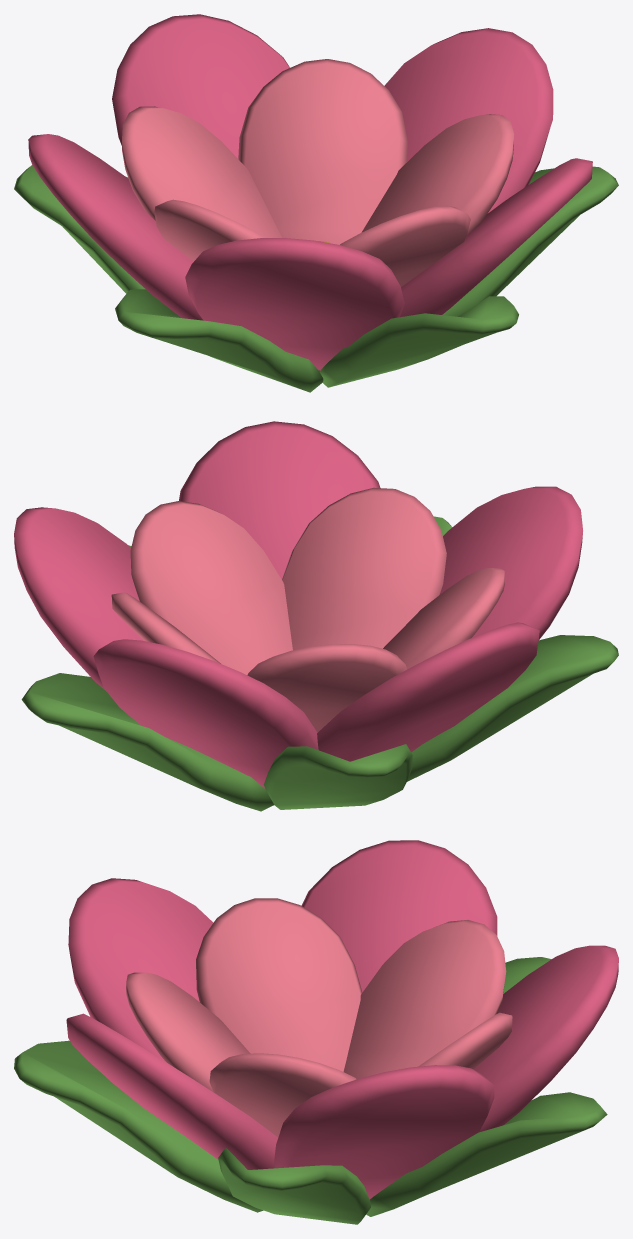
Rendered from flor_rosa.fbx.
3 views of the same model, one above another, from view 1: azimuth 30°, elevation 25°; view 2: azimuth 150°, elevation 25°; view 3: azimuth 270°, elevation 25° (orthographic).
Visible parts, largest first — view 1: Cylinder; view 2: Cylinder; view 3: Cylinder.
Part boxes in pixels (x1=…): Cylinder: x1=14, y1=14, x2=618, y2=392; Cylinder: x1=14, y1=421, x2=618, y2=811; Cylinder: x1=14, y1=840, x2=618, y2=1224.
Size of the model in its own units: 79.4 by 33.93 by 79.79.
